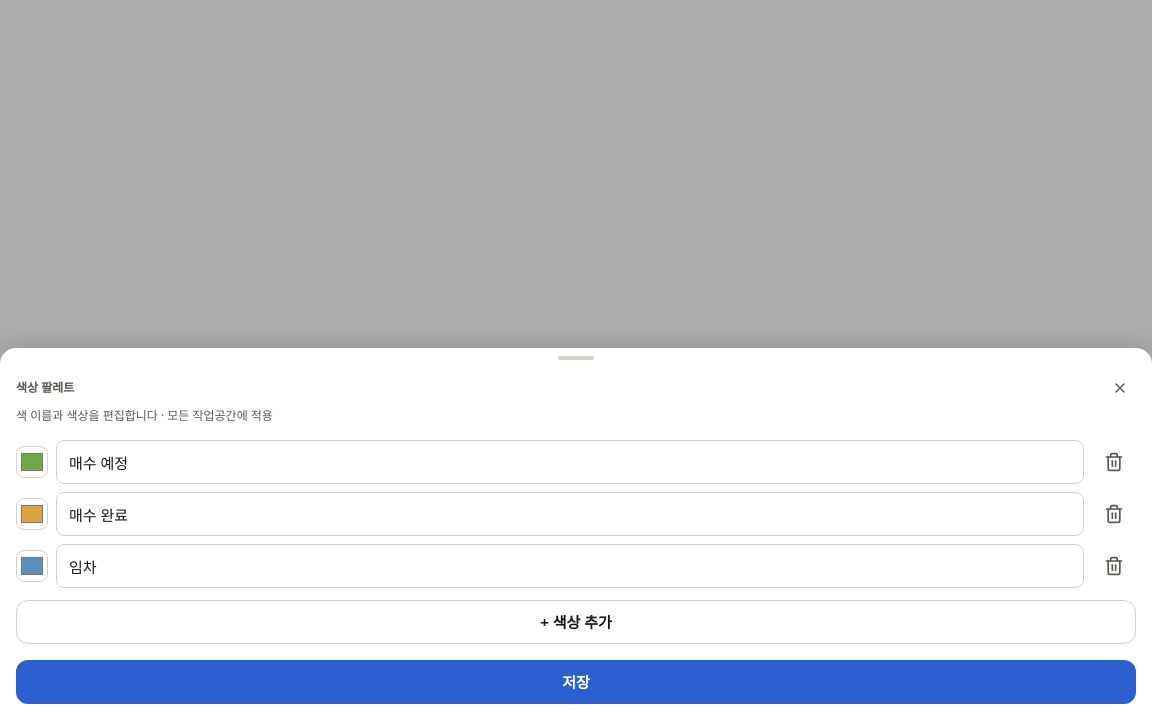
it: AC-4: 2단계 삭제 확인 + 저장 시 DELETE→PUT 순서 › 취소 탭은 확인 UI만 접고 행을 유지한다
Click the 1st button named "색상 삭제". click: (1114, 462)
box: [1092,440,1136,484]
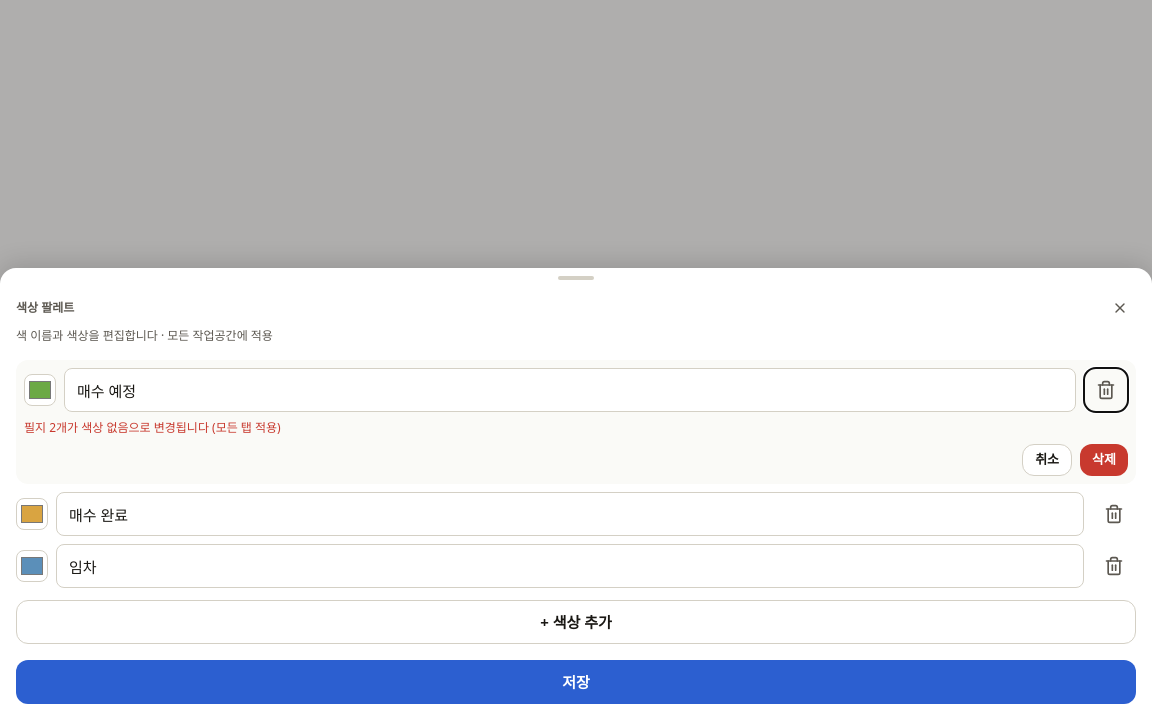
Click the button "취소". click: (1047, 460)
box: [1022,444,1072,476]
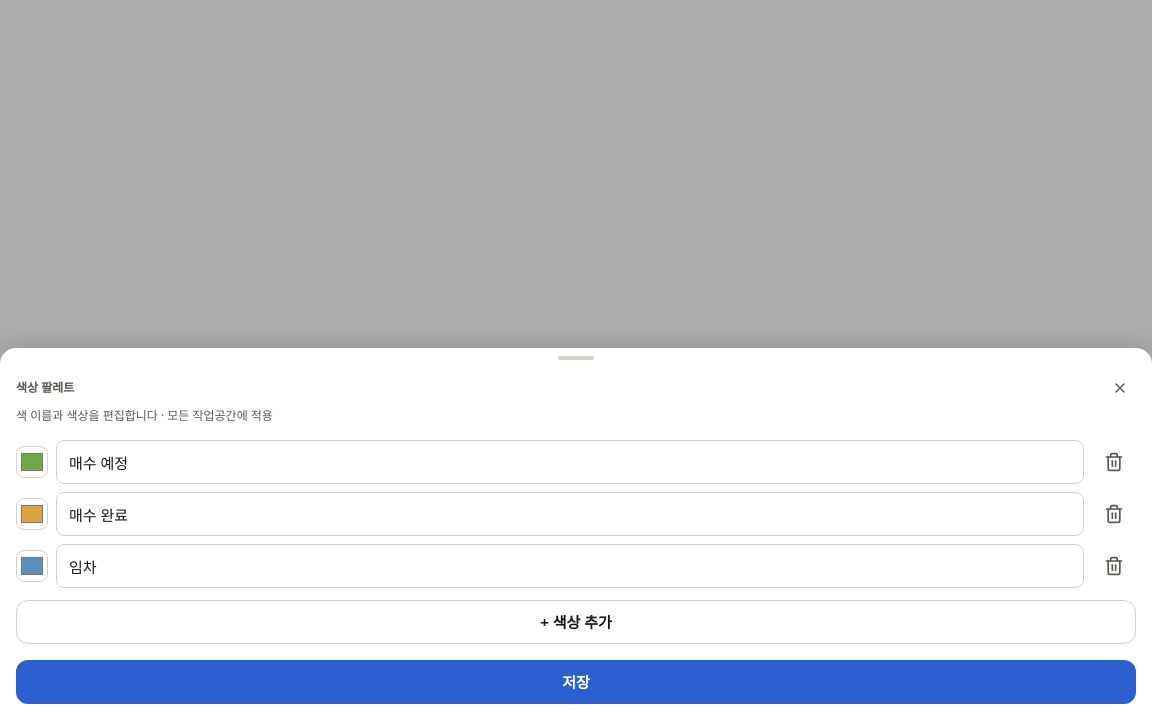
Now the text "필지 2개" is gone
